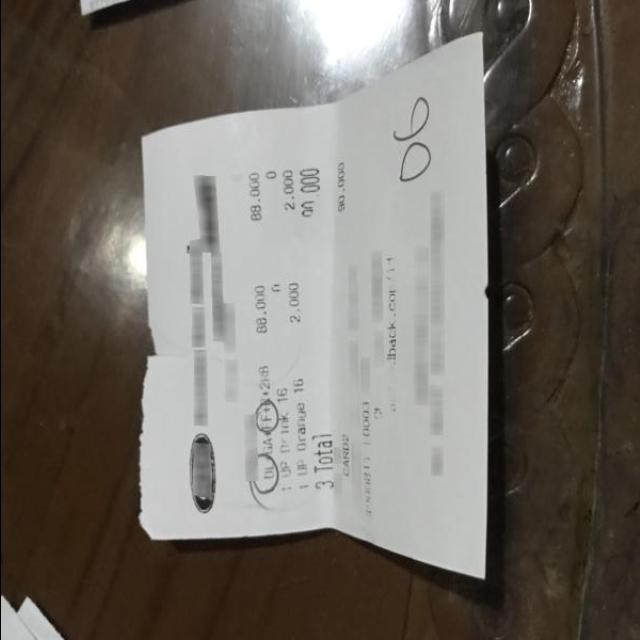kertas: (139, 32, 490, 578)
